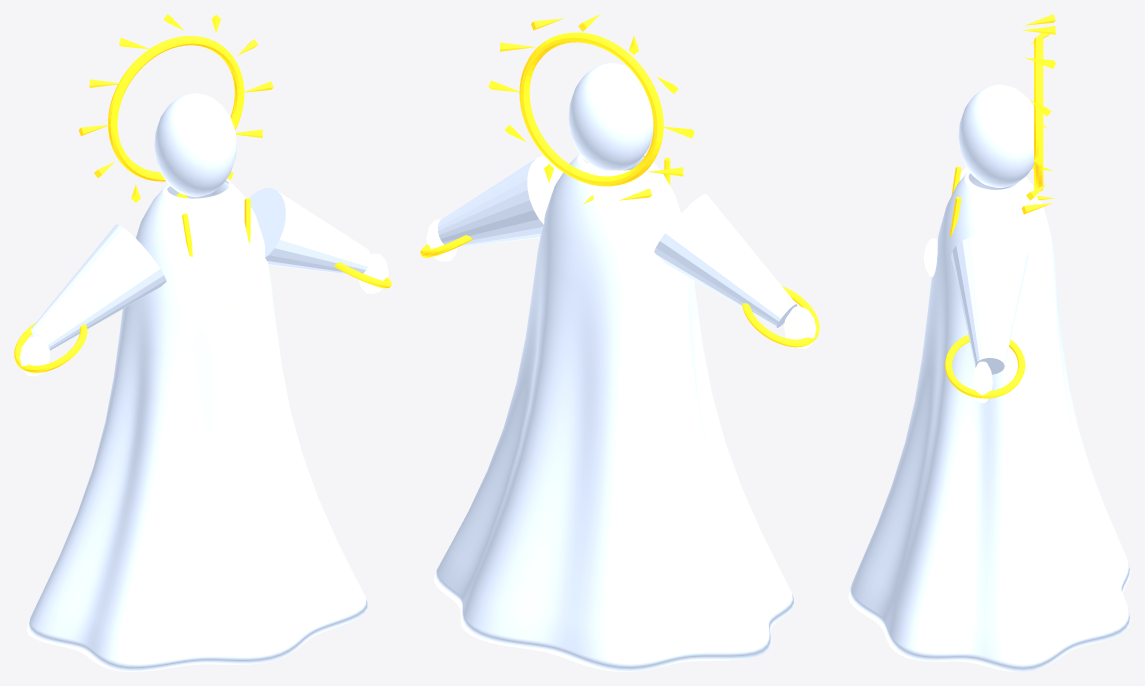
Rendered from light_god_S2.glb.
The picture shows the model from 3 angles, left to right: view 1: azimuth 30°, elevation 25°; view 2: azimuth 150°, elevation 25°; view 3: azimuth 270°, elevation 25°; orthographic projection. The views are drawn at different scales.
Visible parts, largest first — view 1: god_body; view 2: god_body; view 3: god_body.
Part boxes in pixels (bbox=[...]): god_body: bbox=[14, 14, 391, 671]; god_body: bbox=[420, 14, 819, 671]; god_body: bbox=[848, 14, 1130, 671].
Size of the model in its own units: 1.74 by 2.58 by 1.16.
